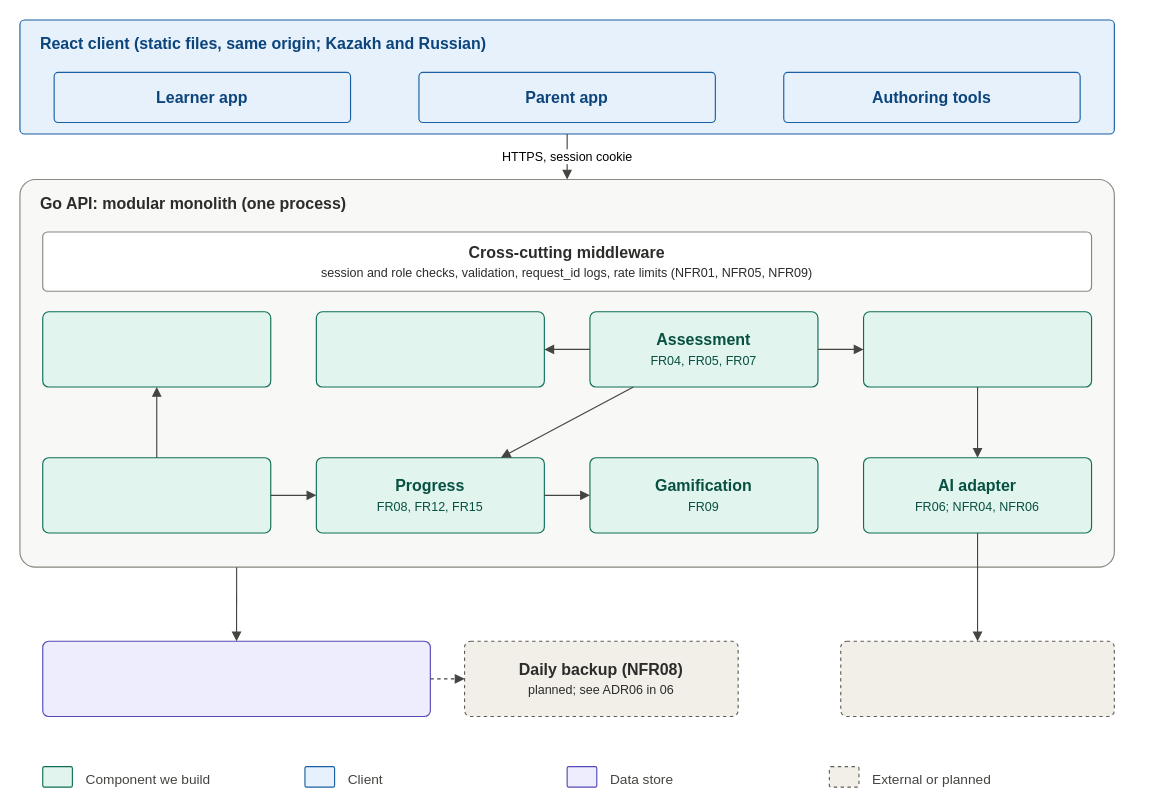
Image size: 1164x808. Some labels were removed from this diagram. Here are the shapes that lost their labels. From the top down, the centre of each, then its label:
At point (156, 349): "Identity/Family FR01, FR02, FR14".
At point (429, 349): "Content FR03, FR11, FR16".
At point (977, 349): "Tutor FR06, FR16".
At point (156, 495): "Reporting FR10, FR13".
At point (236, 678): "PostgreSQL four internal repositories".
At point (977, 678): "External AI provider hints only; template fallback".
